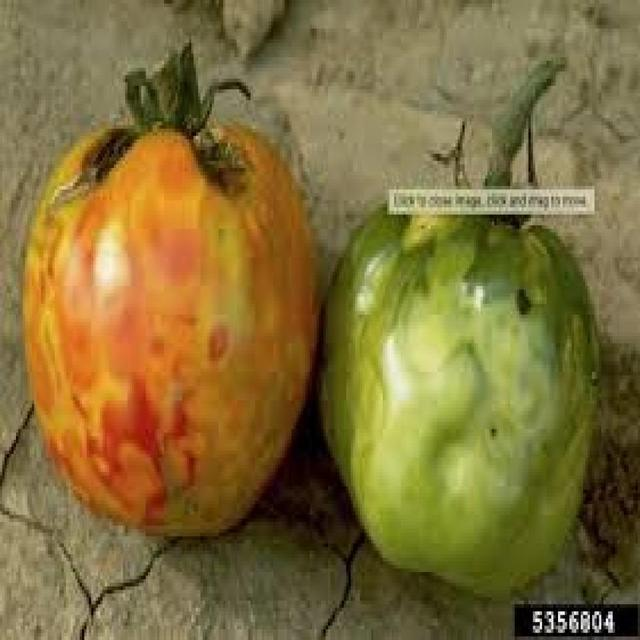Spotted wilt Virus Fruit: (114, 216, 308, 286)
